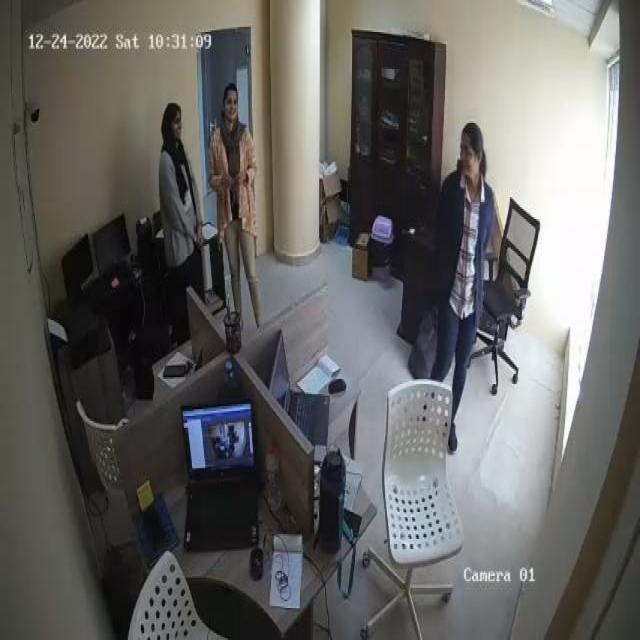bare_hand: (187, 219, 211, 253), (234, 162, 257, 192), (217, 165, 233, 192)
